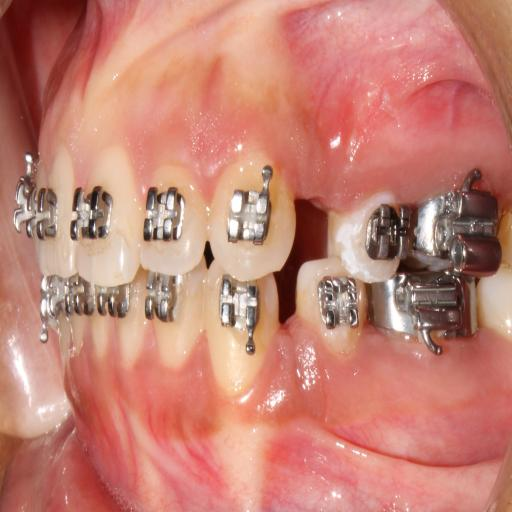correct_brace: (327, 188, 405, 284), (228, 165, 274, 249), (73, 180, 113, 253), (144, 183, 183, 248)
incorrect_brace: (141, 167, 207, 273), (358, 200, 402, 264)
